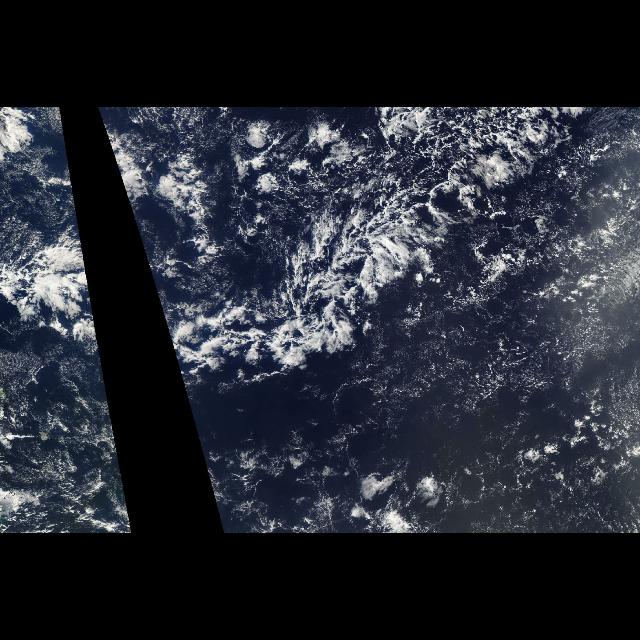Fish: (180, 222, 416, 392)
Gravel: (13, 352, 119, 480)
Sugar: (441, 276, 635, 408)
